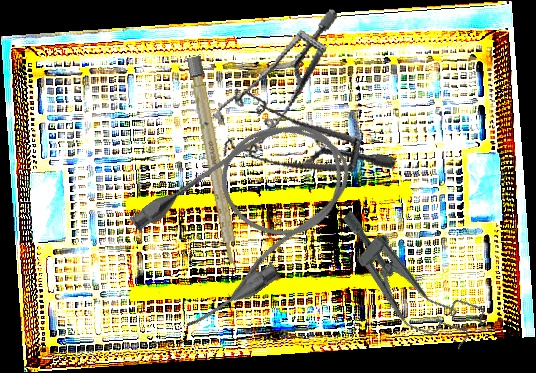Cannula: (116, 94, 379, 338)
Scalpel Handle: (186, 55, 242, 269)
Speculum: (207, 56, 399, 207), (317, 199, 492, 364), (192, 7, 370, 163)
